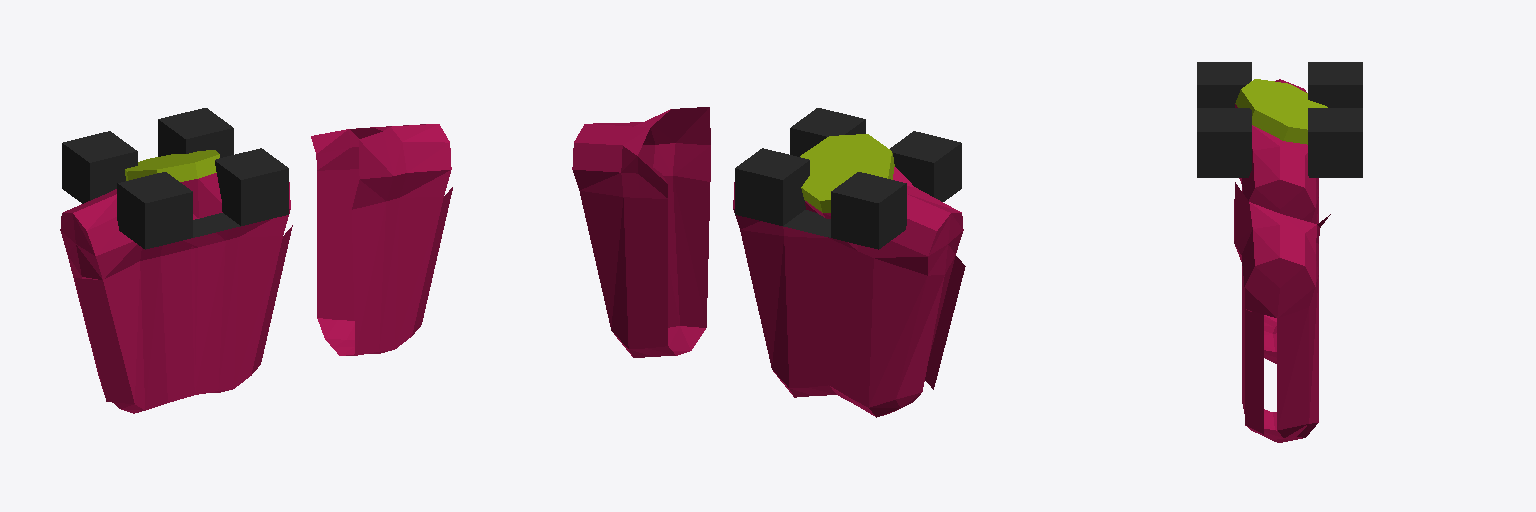
Rendered from TestBox.obj.
The picture shows the model from 3 angles: view 1: azimuth 30°, elevation 25°; view 2: azimuth 150°, elevation 25°; view 3: azimuth 270°, elevation 25°; orthographic projection.
Visible parts, largest first — view 1: Cylinder007, Cylinder003, Plane001, Cylinder006, Cylinder005; view 2: Cylinder007, Cylinder003, Plane001, Cylinder006, Cylinder005; view 3: Cylinder007, Plane001, Cylinder006, Cylinder005.
Part boxes in pixels (x1,y1,x2,y2): Cylinder007: (311, 124, 452, 355); Cylinder003: (60, 179, 198, 413); Plane001: (62, 108, 288, 249); Cylinder006: (191, 173, 292, 394); Cylinder005: (125, 150, 219, 181); Cylinder007: (572, 107, 710, 357); Cylinder003: (823, 167, 965, 417); Plane001: (735, 108, 961, 249); Cylinder006: (733, 182, 836, 397); Cylinder005: (800, 134, 894, 212); Cylinder007: (1234, 182, 1330, 442); Plane001: (1197, 62, 1362, 177); Cylinder006: (1235, 104, 1318, 363); Cylinder005: (1235, 79, 1327, 144).
Bounding box in the file's own units: 52.58 × 33.79 × 20.